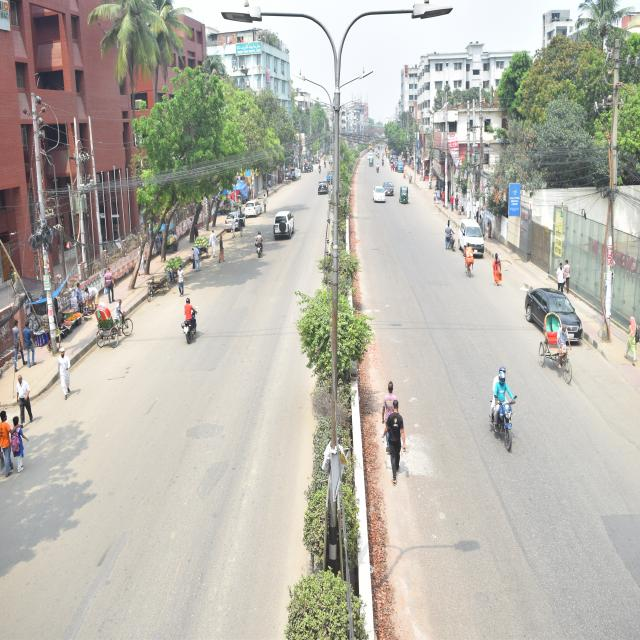car: (526, 282, 590, 348), (272, 207, 298, 243), (227, 206, 246, 238), (370, 181, 390, 207), (244, 198, 263, 221)
microbus: (454, 215, 489, 258)
motorbike: (491, 372, 517, 457), (179, 294, 201, 348), (253, 230, 266, 260)
